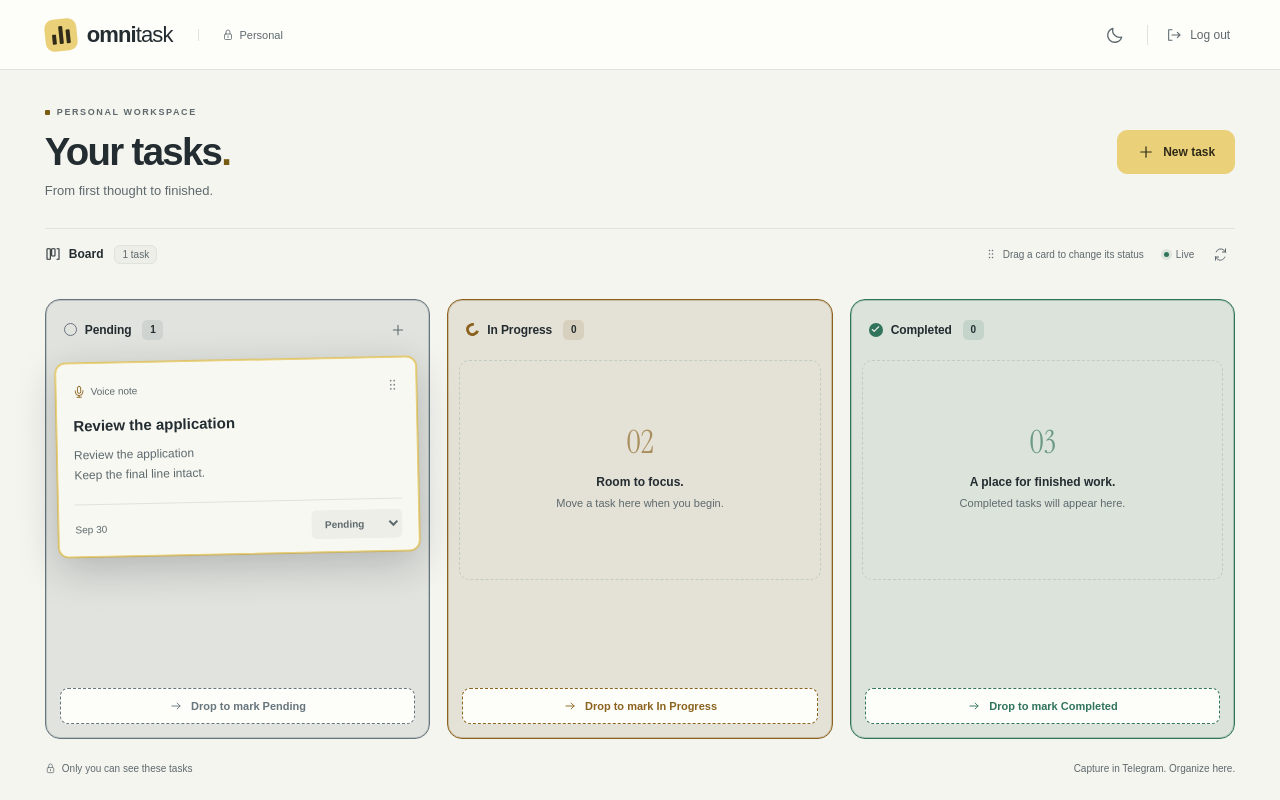
Test: private dashboard › rolls a failed move back and exposes an actionable error
The image size is (1280, 800).
Select "Completed" in the dropdown labelled "Status for Review the application" at (357, 524), box 311,508 -> 403,539
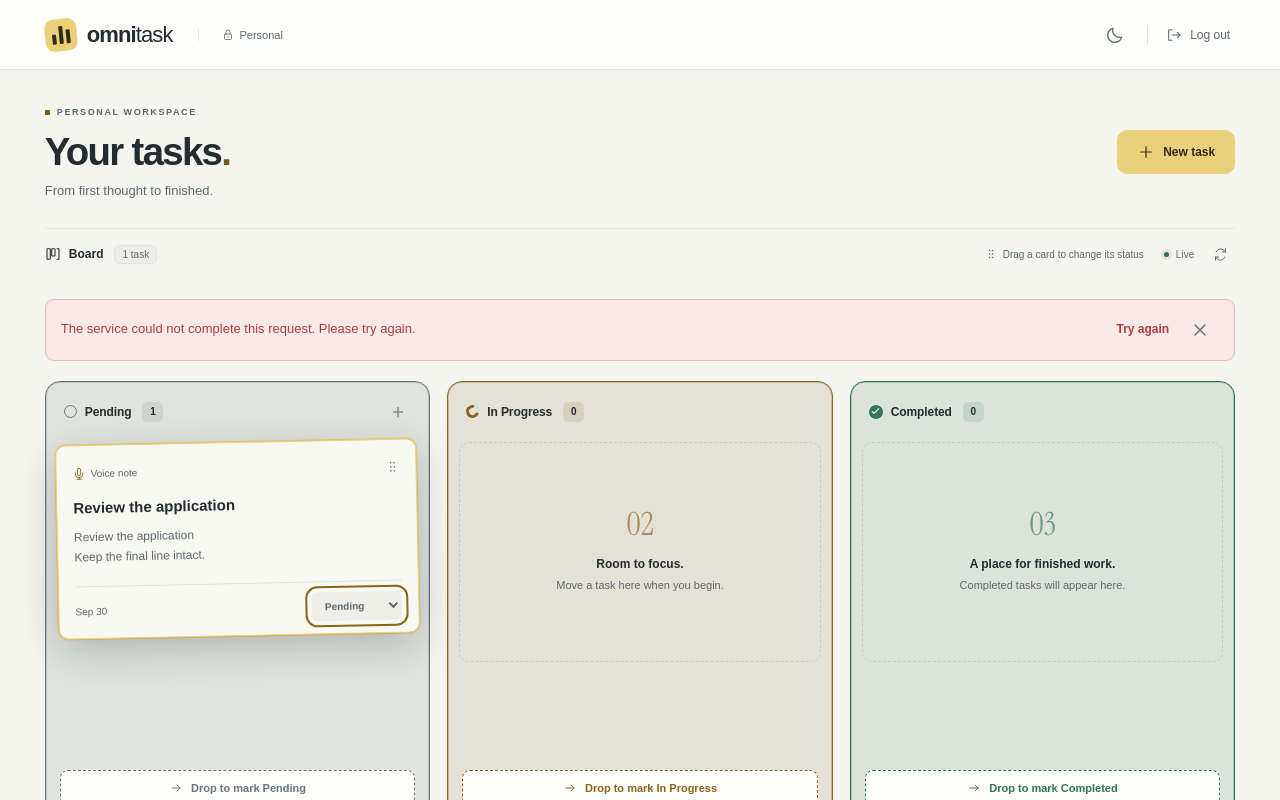
Expected: the button "Review the application" is shown, 73,490 -> 401,520
Expected: the message "The service could not complete this request. Please try again. Try again" is shown, 45,298 -> 1235,360
Expected: the button "Try again" is enabled, 1116,312 -> 1169,348
